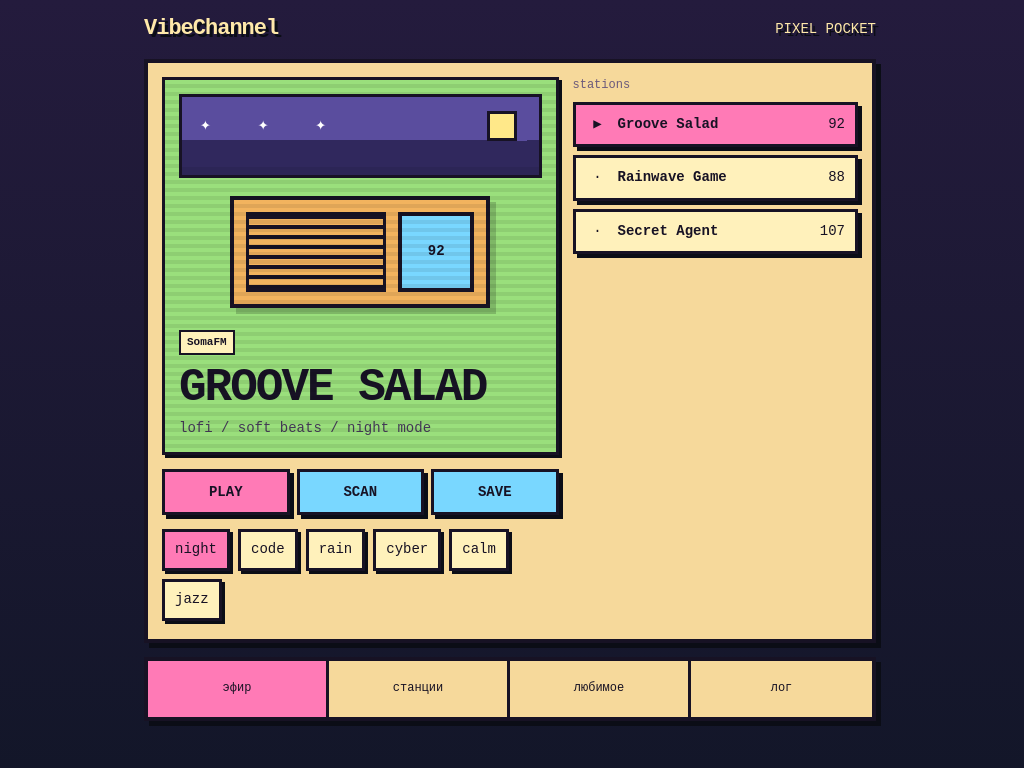
Test: VibeChannel pocket radio app › saves the evening note without cluttering the main radio screen
Click the button "лог": coordinates (782, 689) left=691, top=661, right=872, bottom=717
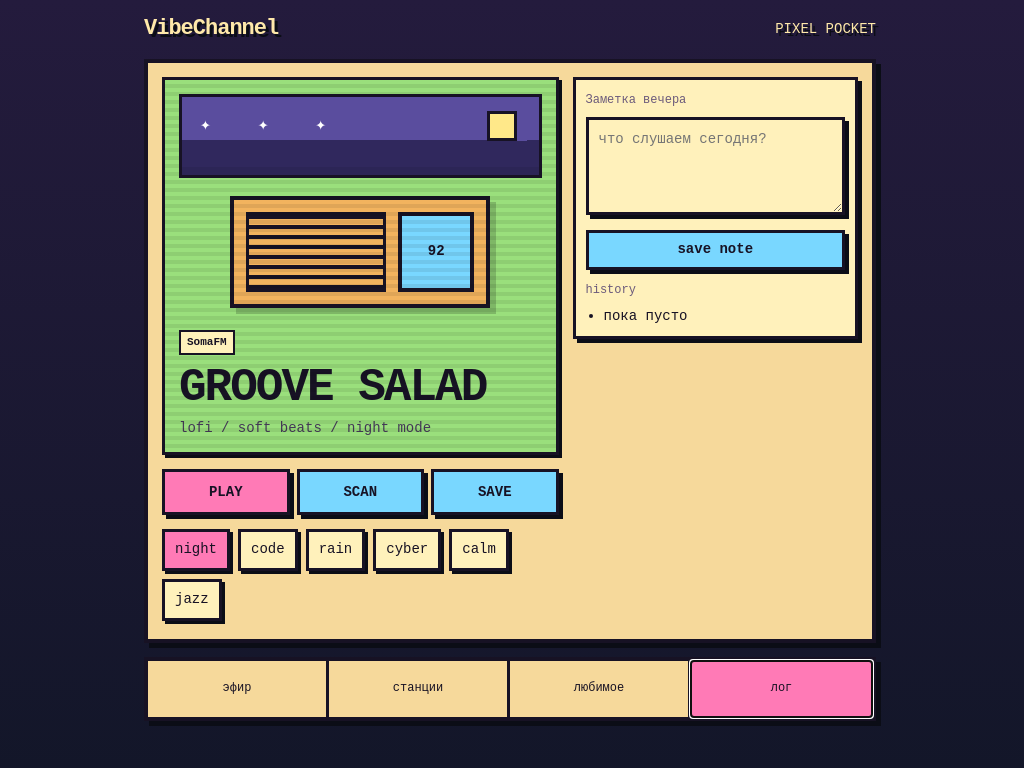
In the text box labelled "Заметка вечера": coordinates (715, 166) left=586, top=117, right=845, bottom=215, type "Слушать ночью"
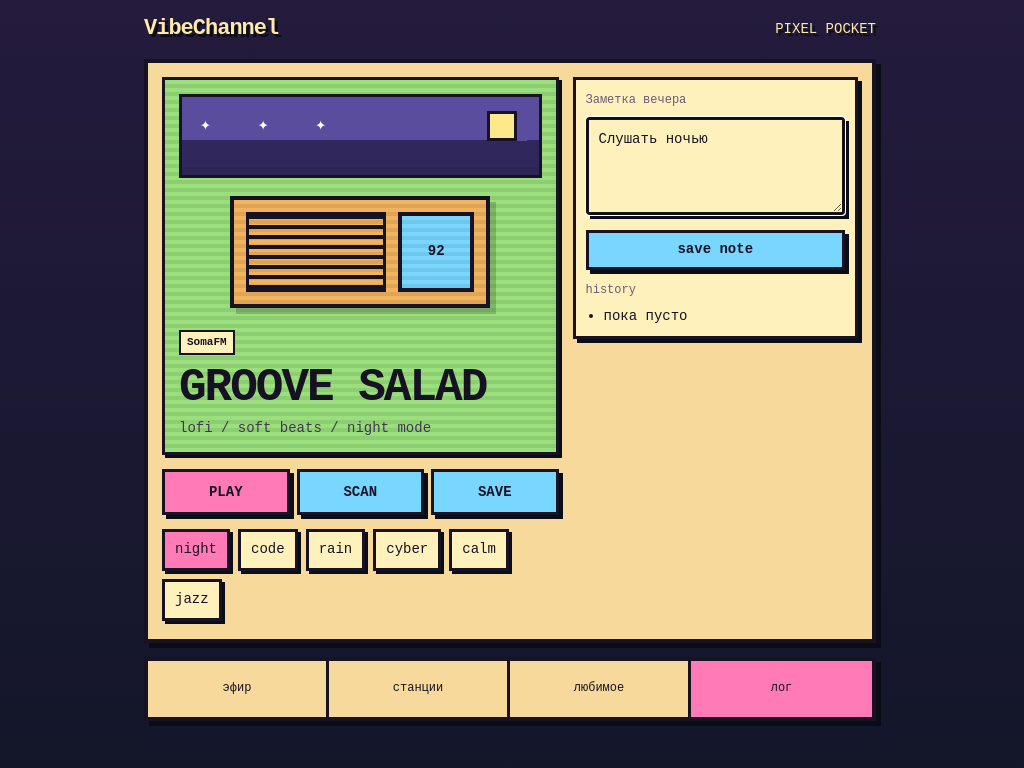
Click the button "save note": coordinates (715, 250) left=586, top=230, right=845, bottom=270
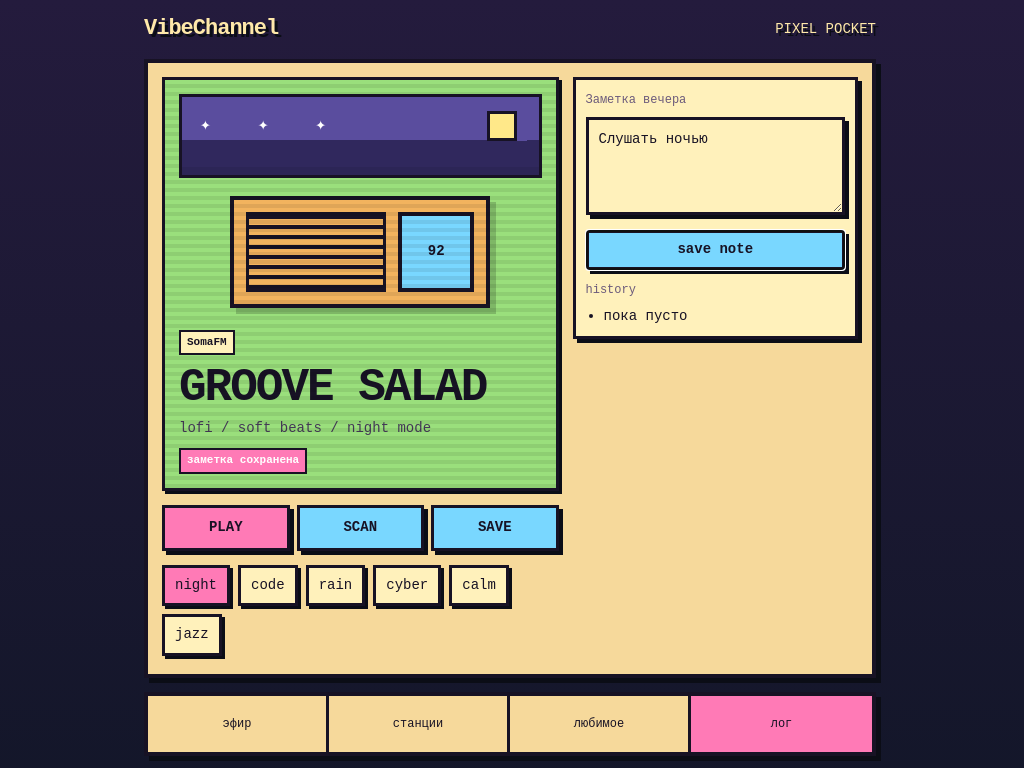
Check: the text "заметка сохранена" is shown, box left=179, top=448, right=307, bottom=474
